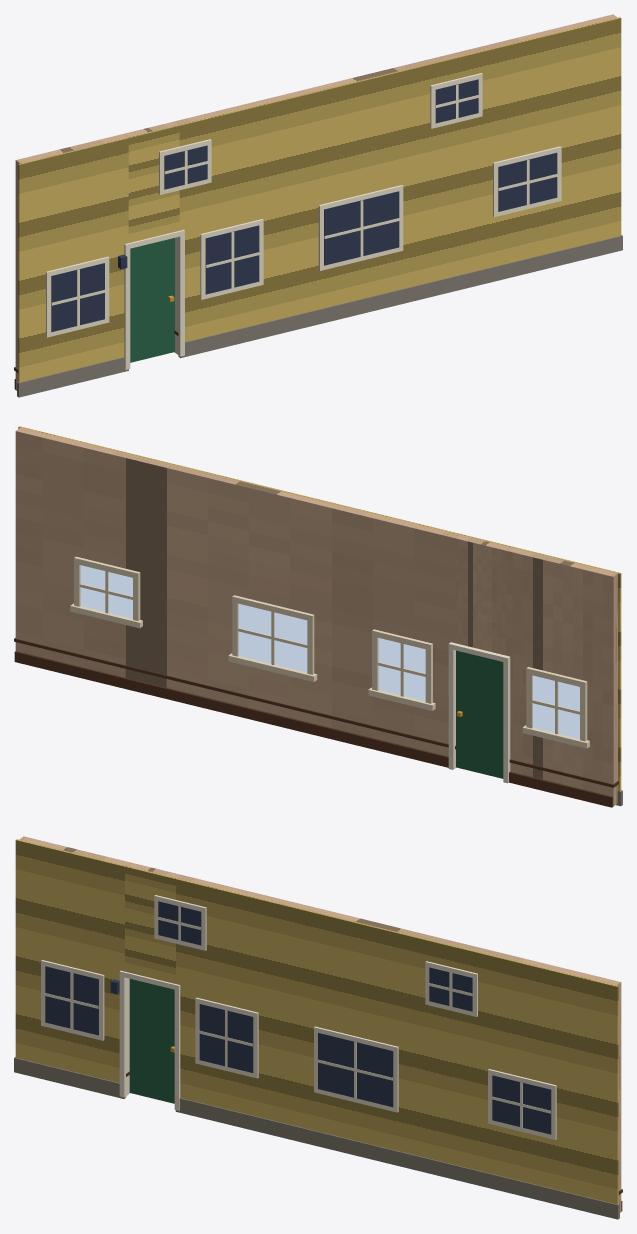
The model's file is front.glb.
3 renders of one model, top to bottom at view 1: azimuth 30°, elevation 25°; view 2: azimuth 150°, elevation 25°; view 3: azimuth 330°, elevation 25°, orthographic.
Parts seen in each view (by area): view 1: Box8, Box6, Box9, Box14, Box10, Box40, Box29, Box18, Box51, Box3, Box7, Box39 (+10 smaller); view 2: Box3, Box1, Box14, Box5, Box4, Box47, Box72, Box36, Box25, Box58, Box73, Box2 (+11 smaller); view 3: Box8, Box6, Box9, Box14, Box10, Box40, Box3, Box29, Box18, Box51, Box7, Box39 (+10 smaller).
Part boxes in pixels (<box>): Box8: <box>178,17,621,357</box>; Box6: <box>18,137,128,382</box>; Box9: <box>179,235,622,358</box>; Box14: <box>130,238,174,362</box>; Box10: <box>128,125,179,242</box>; Box40: <box>324,191,399,265</box>; Box29: <box>205,225,259,294</box>; Box18: <box>51,263,104,332</box>; Box51: <box>498,152,557,211</box>; Box3: <box>174,14,617,124</box>; Box7: <box>17,357,128,397</box>; Box39: <box>318,185,403,270</box>; Box3: <box>15,427,458,756</box>; Box1: <box>506,547,617,806</box>; Box14: <box>456,650,503,778</box>; Box5: <box>455,535,510,655</box>; Box4: <box>14,651,448,767</box>; Box47: <box>238,604,307,672</box>; Box72: <box>15,642,448,755</box>; Box36: <box>378,638,425,701</box>; Box25: <box>533,675,579,738</box>; Box58: <box>80,565,132,618</box>; Box73: <box>14,638,456,749</box>; Box2: <box>509,771,612,807</box>; Box8: <box>176,878,618,1204</box>; Box6: <box>15,839,126,1097</box>; Box9: <box>175,1098,619,1219</box>; Box14: <box>129,979,174,1103</box>; Box10: <box>125,866,176,983</box>; Box40: <box>318,1033,393,1107</box>; Box3: <box>177,875,621,1212</box>; Box29: <box>199,1004,253,1072</box>; Box18: <box>45,966,98,1035</box>; Box51: <box>492,1075,551,1134</box>; Box7: <box>14,1057,124,1098</box>; Box39: <box>314,1026,398,1112</box>.
Bounding box in the file's own units: 11.27 × 4.14 × 0.395.
Materials: 10 (2 with a texture image).
